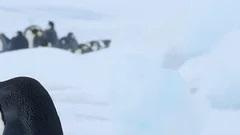Emperor Penguin: (0, 68, 76, 135)
